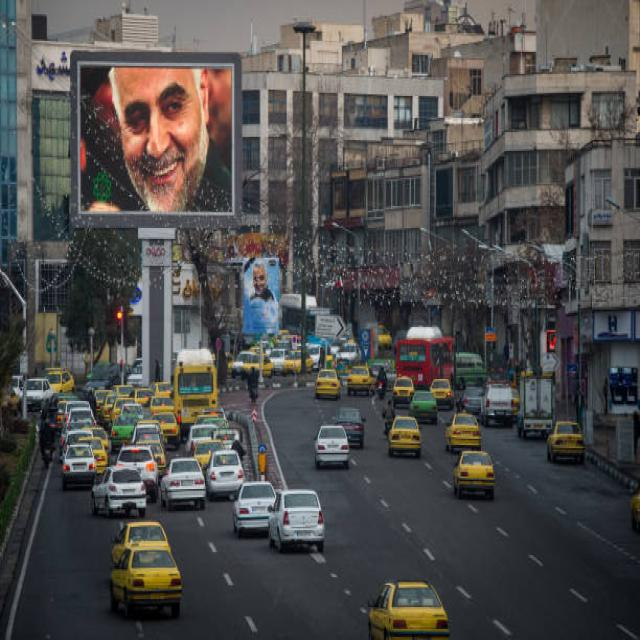Billboard_overhead: (65, 28, 256, 239)
Billboard_overhead_small: (313, 308, 345, 342)
Billboards: (484, 314, 500, 350)
Roadcorner: (2, 464, 61, 627), (260, 381, 292, 491)
Roadlane: (347, 458, 526, 638), (459, 498, 638, 634), (501, 454, 639, 587), (177, 516, 290, 638), (309, 545, 374, 618)
